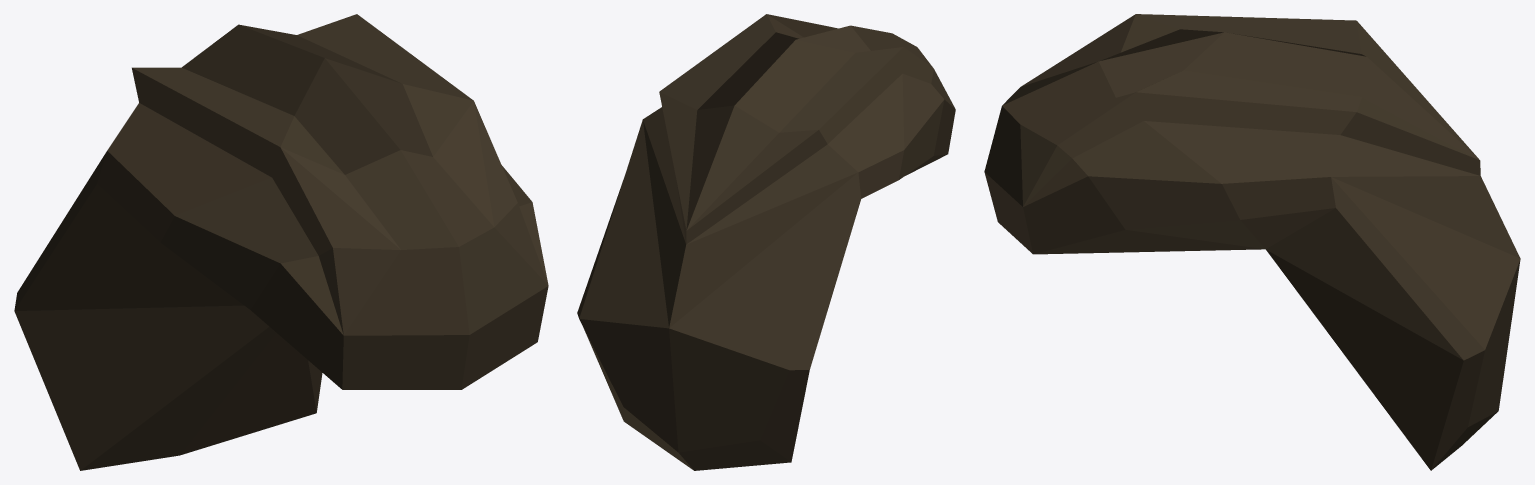
The model's file is SM_Chr_Attach_Hair_Male_09.fbx.
3 views of the same model, side by side, from view 1: azimuth 30°, elevation 25°; view 2: azimuth 150°, elevation 25°; view 3: azimuth 270°, elevation 25° (orthographic). The views are drawn at different scales.
Parts seen in each view (by area): view 1: SM_Chr_Attach_Hair_Male_09; view 2: SM_Chr_Attach_Hair_Male_09; view 3: SM_Chr_Attach_Hair_Male_09.
Boxes of the visible parts, x1,y1,x2,y2 form: SM_Chr_Attach_Hair_Male_09: (14, 14, 548, 470); SM_Chr_Attach_Hair_Male_09: (577, 14, 955, 470); SM_Chr_Attach_Hair_Male_09: (984, 14, 1520, 470).
Size of the model in its own units: 14.81 by 21.67 by 25.44.
